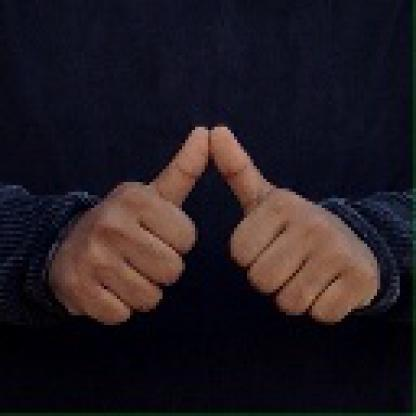A: (57, 116, 380, 336)
